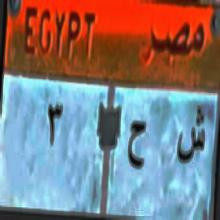3: (38, 97, 72, 160)
7aa: (124, 110, 150, 182)
sheen: (176, 101, 208, 170)
